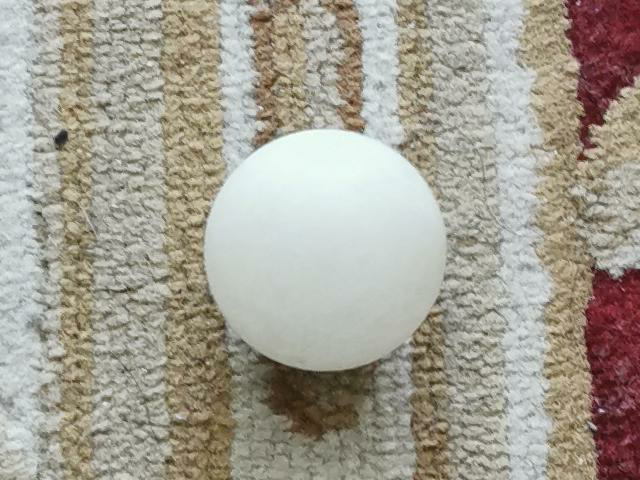ball: (204, 129, 449, 371)
